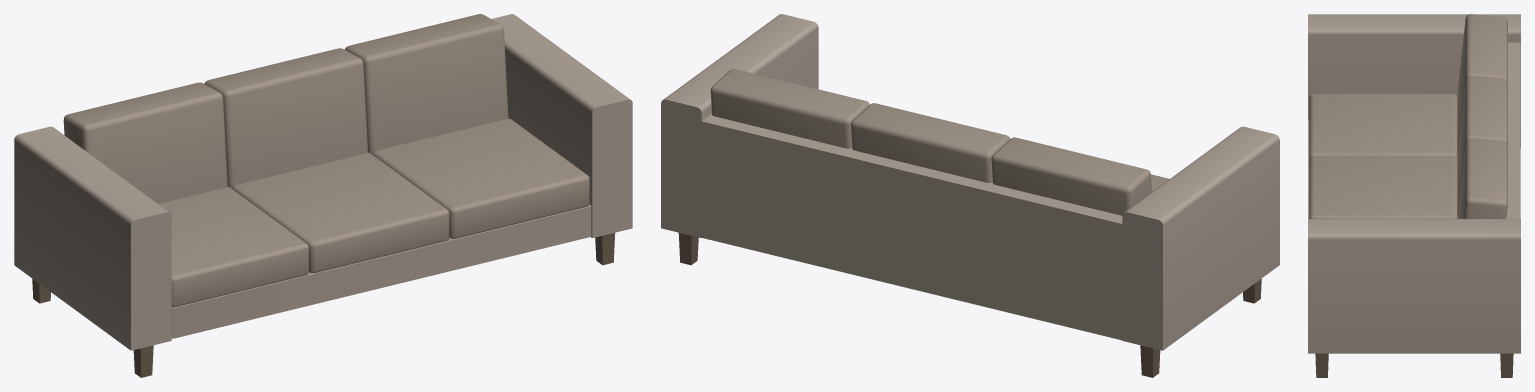
Rendered from Sofa6_C2.fbx.
3 views of the same model, side by side, from view 1: azimuth 30°, elevation 25°; view 2: azimuth 150°, elevation 25°; view 3: azimuth 270°, elevation 25° (orthographic). The views are drawn at different scales.
Parts seen in each view (by area): view 1: Sofa6_C2; view 2: Sofa6_C2; view 3: Sofa6_C2.
Part boxes in pixels (x1,y1,x2,y2): Sofa6_C2: (14, 14, 632, 377); Sofa6_C2: (661, 14, 1279, 377); Sofa6_C2: (1308, 14, 1520, 377).
Bounding box in the file's own units: 248 × 86.76 × 100.
